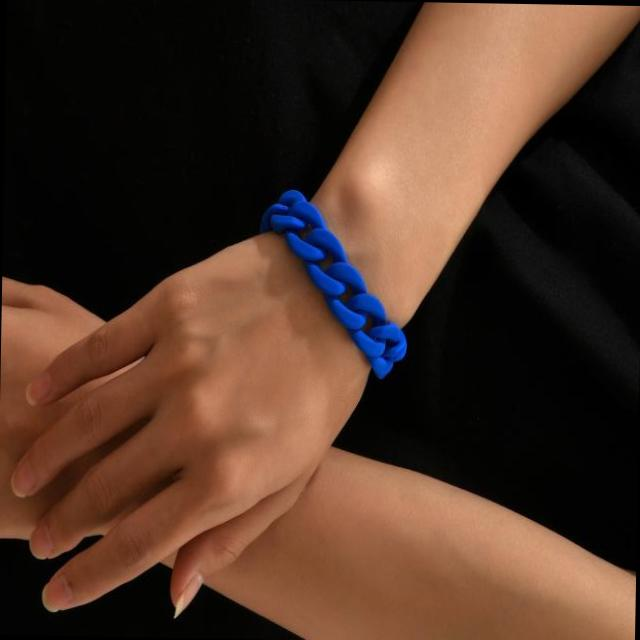Nail: (4, 455, 43, 499), (40, 573, 75, 615), (23, 368, 54, 410), (171, 574, 201, 616), (25, 521, 56, 561)
